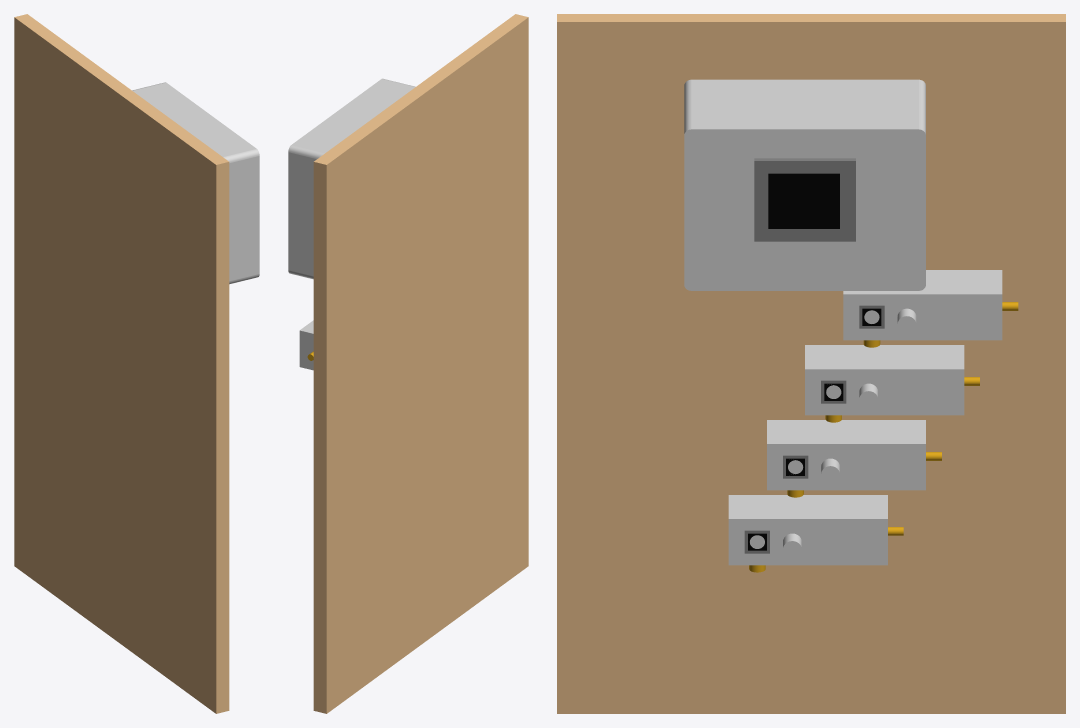
The model's file is ControlPanel.glb.
3 renders of one model, left to right at view 1: azimuth 30°, elevation 25°; view 2: azimuth 150°, elevation 25°; view 3: azimuth 270°, elevation 25°, orthographic. The views are drawn at different scales.
Visible parts, largest first — view 1: 制御盤; view 2: 制御盤; view 3: 制御盤.
Part boxes in pixels (<box>): 制御盤: <box>14,14,259,713</box>; 制御盤: <box>288,14,528,713</box>; 制御盤: <box>557,14,1065,713</box>.
Bounding box in the file's own units: 0.225 × 1.2 × 0.8.
